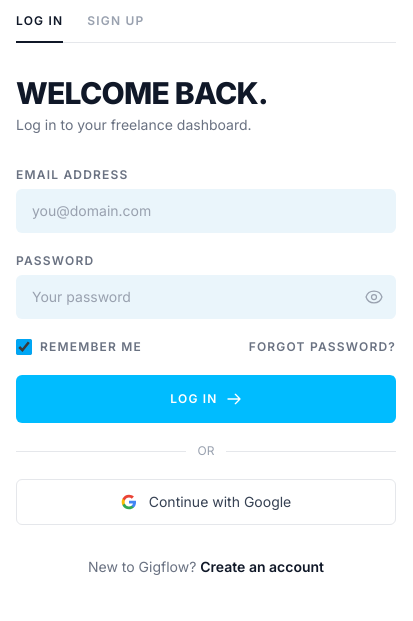
LoginPage Component Tests › renders error message in red text (text-red-600) when loginAction returns ok: false
Type "test@example.com" into the field with placeholder "you@domain.com".
click(206, 211); type("test@example.com")  # box [16,189,396,233]
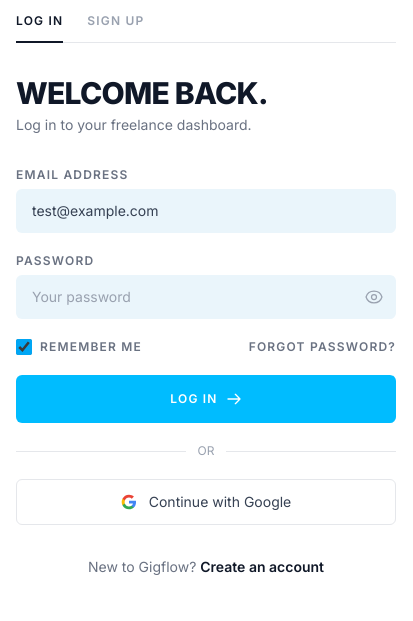
Type "WrongPass" into the password field with placeholder "Your password".
click(206, 297); type("WrongPass")  # box [16,275,396,319]
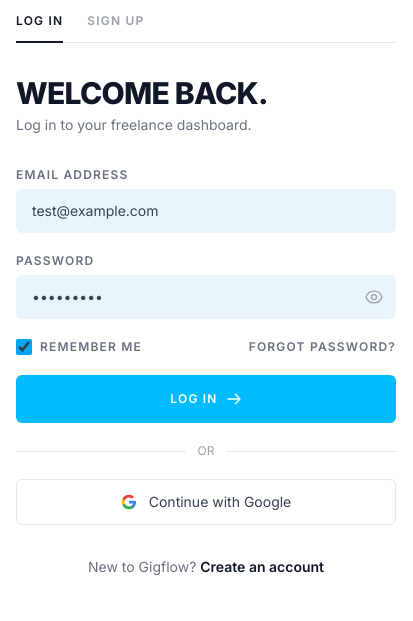
Click the button "LOG IN".
click(206, 399)  # box [16,375,396,423]
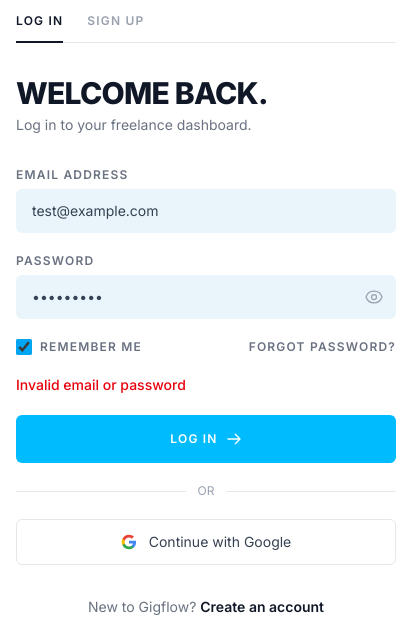
Now the text "Invalid email or password" is shown, box [16,376,186,393]
